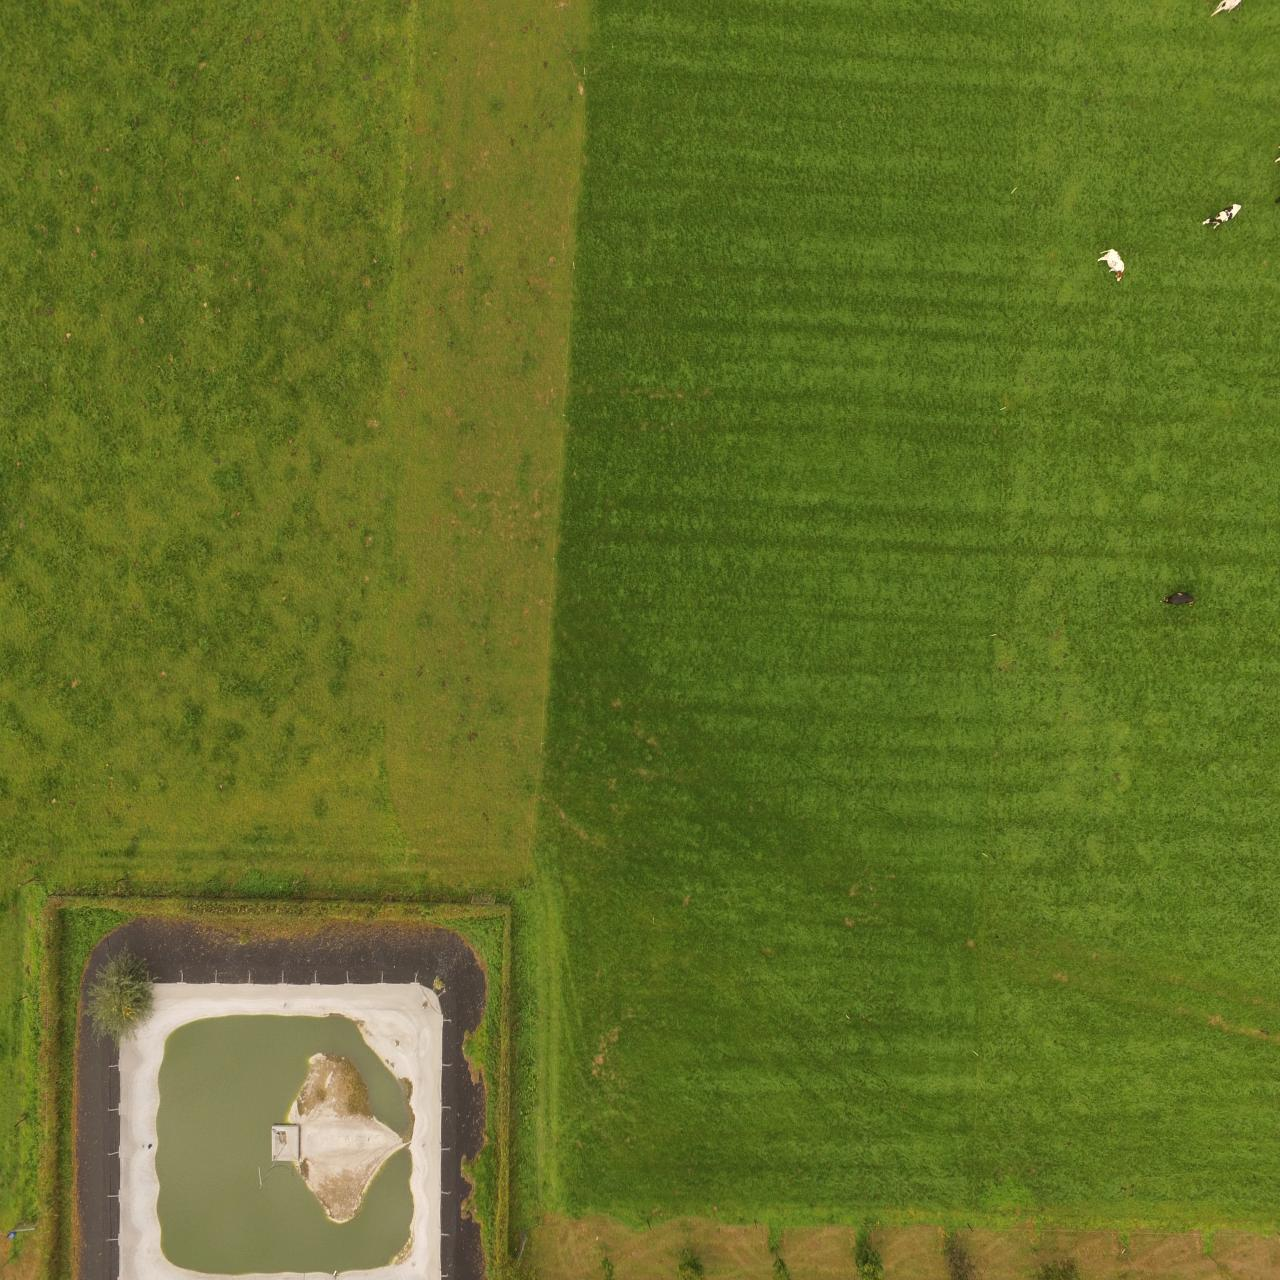cow: (1200, 203, 1244, 231), (1097, 248, 1125, 285), (1160, 588, 1197, 607)
